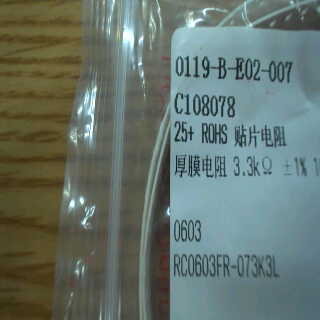3.3kO: (231, 151, 274, 178)
